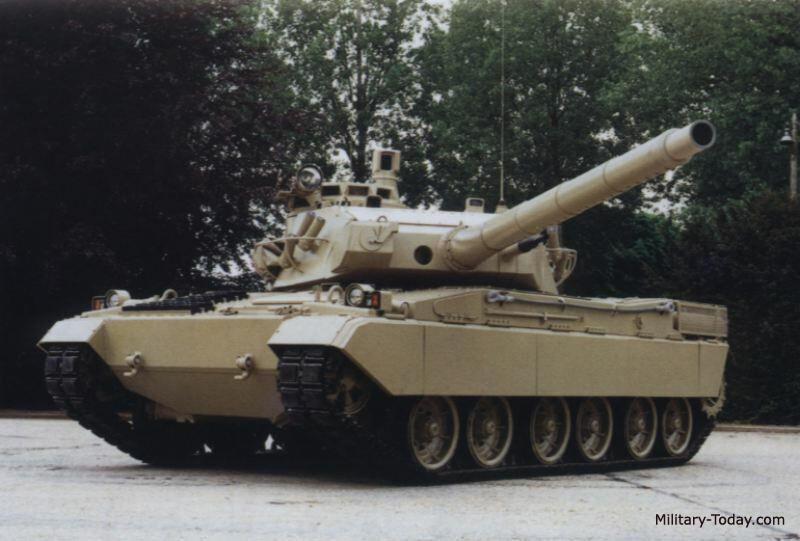tank: (31, 115, 739, 491)
